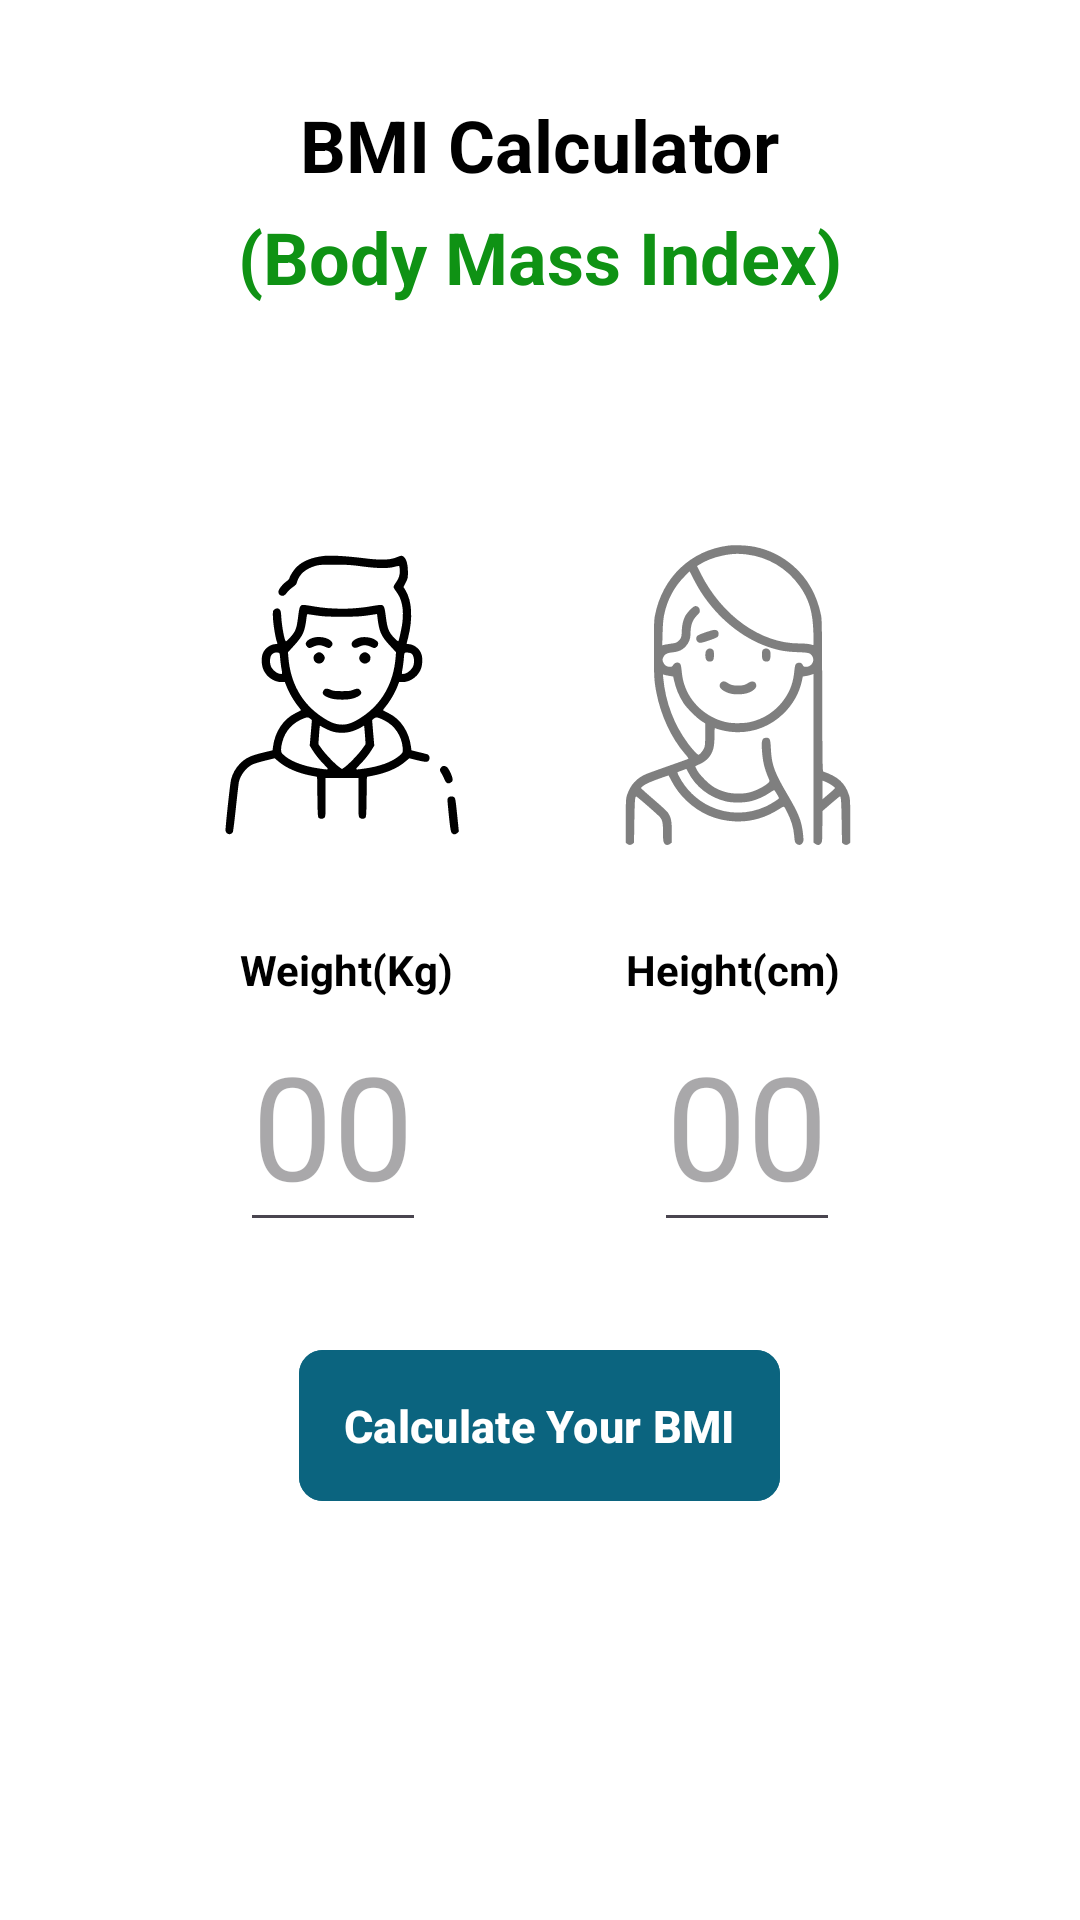

Named icons in this screenshot (1080px x 1920px) and their centers, (x=x, y=y):
boy: (x=342, y=695)
girl blur: (x=738, y=695)
